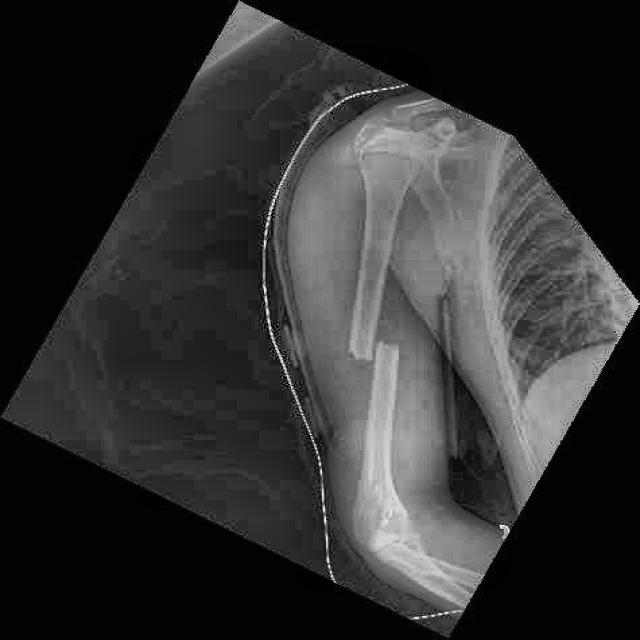humerus: (337, 294, 417, 432)
